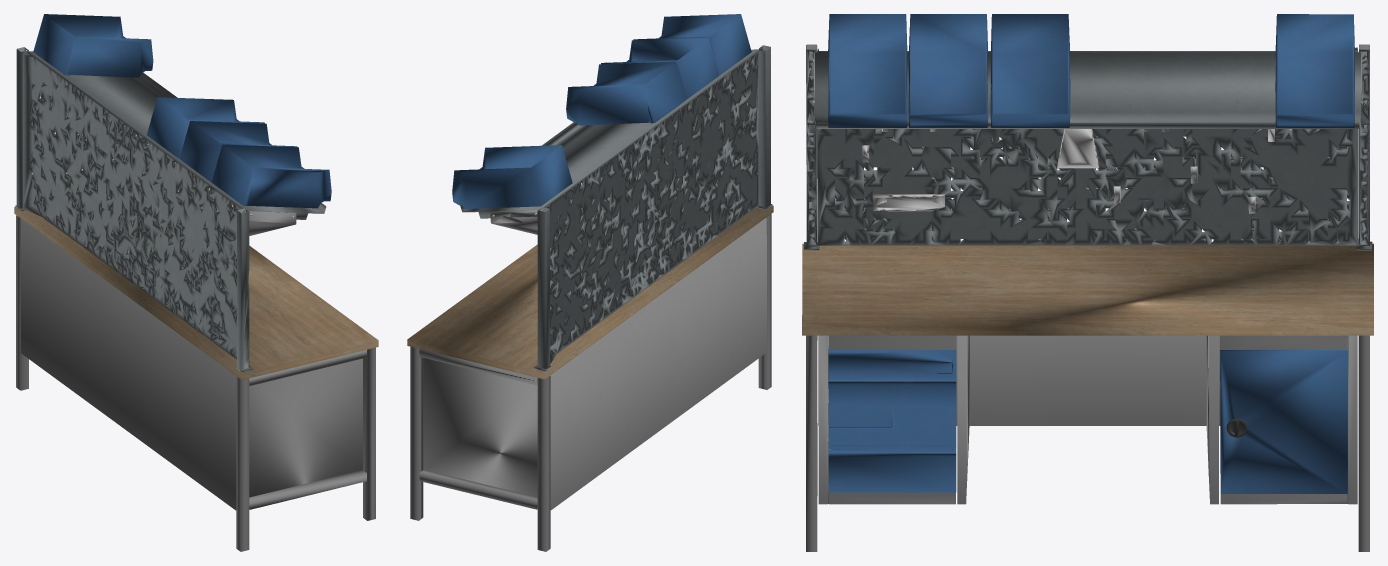
Rendered from simready-workbench.glb.
The picture shows the model from 3 angles, left to right: view 1: azimuth 30°, elevation 25°; view 2: azimuth 150°, elevation 25°; view 3: azimuth 270°, elevation 25°; orthographic projection. The views are drawn at different scales.
Visible parts, largest first — view 1: table_01_mesh_00, door_01_mesh_01; view 2: table_01_mesh_00, door_01_mesh_01; view 3: table_01_mesh_00, door_01_mesh_01, drawersA_01_mesh_01.
Part boxes in pixels (x1,y1,x2,y2): table_01_mesh_00: (14, 47, 378, 551); door_01_mesh_01: (33, 14, 331, 208); table_01_mesh_00: (407, 45, 773, 551); door_01_mesh_01: (452, 14, 751, 208); table_01_mesh_00: (802, 44, 1373, 551); door_01_mesh_01: (828, 14, 1354, 493); drawersA_01_mesh_01: (813, 60, 1363, 449).
Size of the model in its own units: 0.5319 by 1.38 by 1.53.
Materials: 6 (5 with a texture image).
